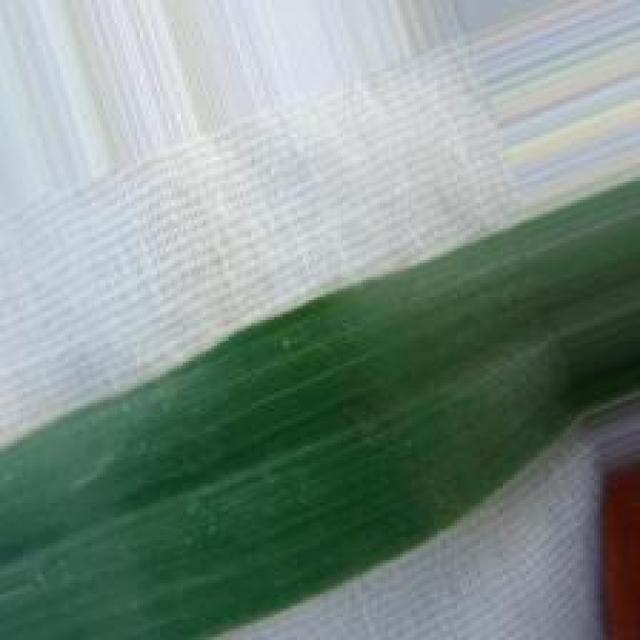Healthy: (0, 173, 640, 640)
